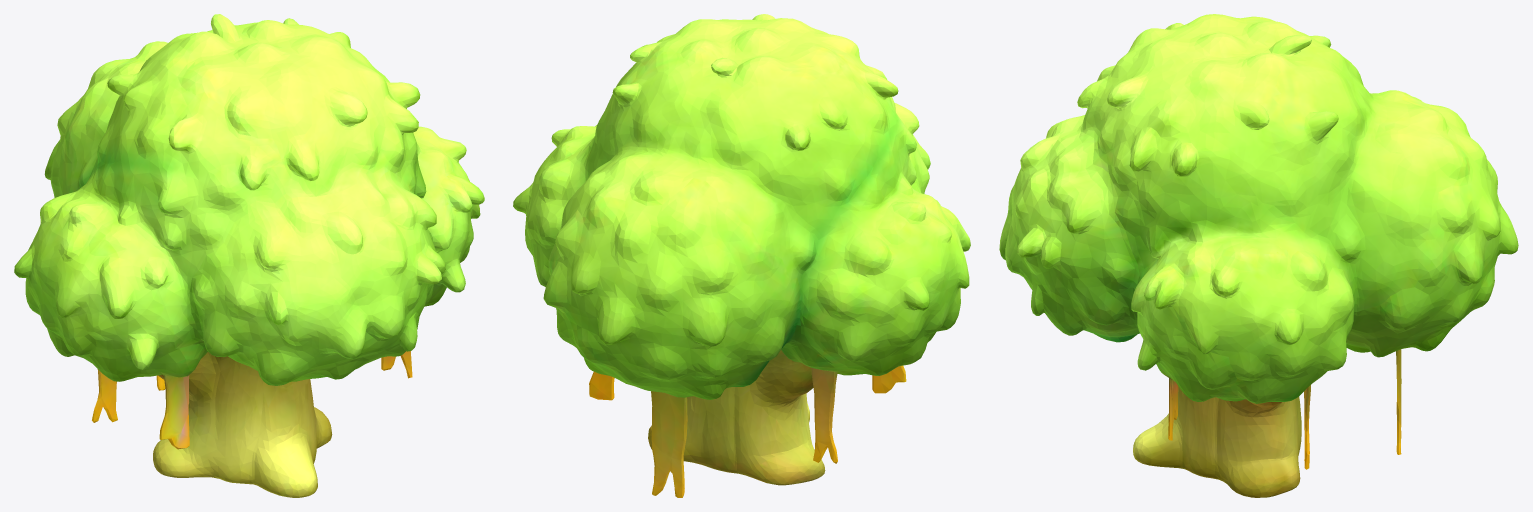
Rendered from zelkova.glb.
The picture shows the model from 3 angles, left to right: view 1: azimuth 30°, elevation 25°; view 2: azimuth 150°, elevation 25°; view 3: azimuth 270°, elevation 25°; orthographic projection. The views are drawn at different scales.
Visible parts, largest first — view 1: tripo_mesh_c9a9dcbd-fe87-4063-90a9-d5d387a59b18; view 2: tripo_mesh_c9a9dcbd-fe87-4063-90a9-d5d387a59b18; view 3: tripo_mesh_c9a9dcbd-fe87-4063-90a9-d5d387a59b18.
Part boxes in pixels (<box>): tripo_mesh_c9a9dcbd-fe87-4063-90a9-d5d387a59b18: <box>14,14,484,497</box>; tripo_mesh_c9a9dcbd-fe87-4063-90a9-d5d387a59b18: <box>513,14,970,497</box>; tripo_mesh_c9a9dcbd-fe87-4063-90a9-d5d387a59b18: <box>999,14,1518,497</box>.
Size of the model in its own units: 1.05 by 1 by 1.12.
Materials: 1 (1 with a texture image).
